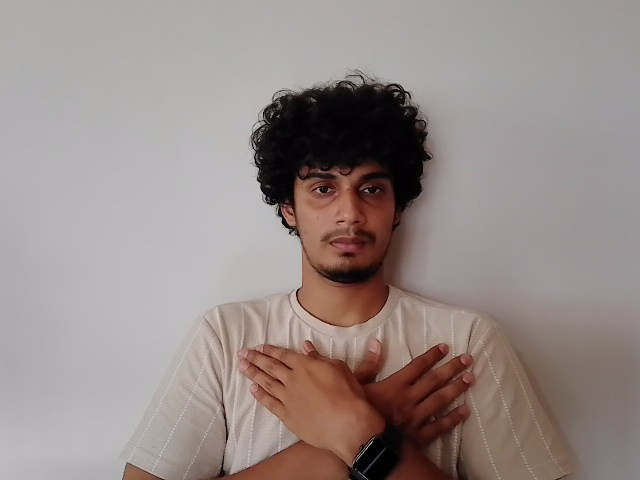relaxing: (235, 338, 483, 437)
